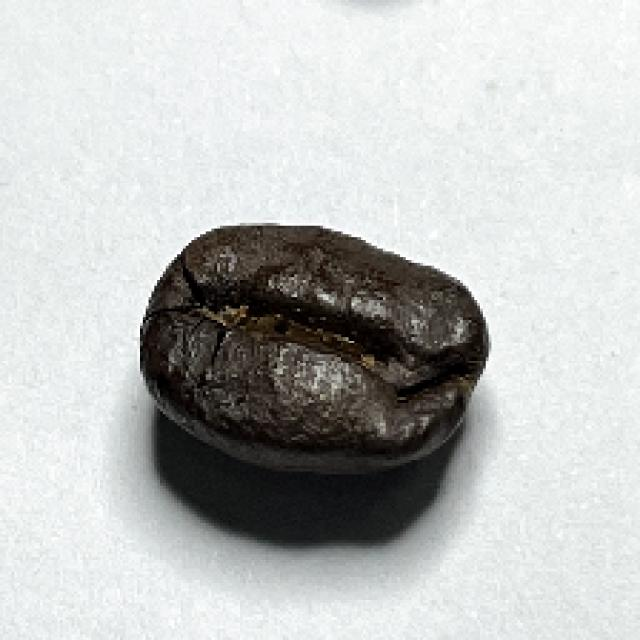bean: (134, 219, 490, 472)
